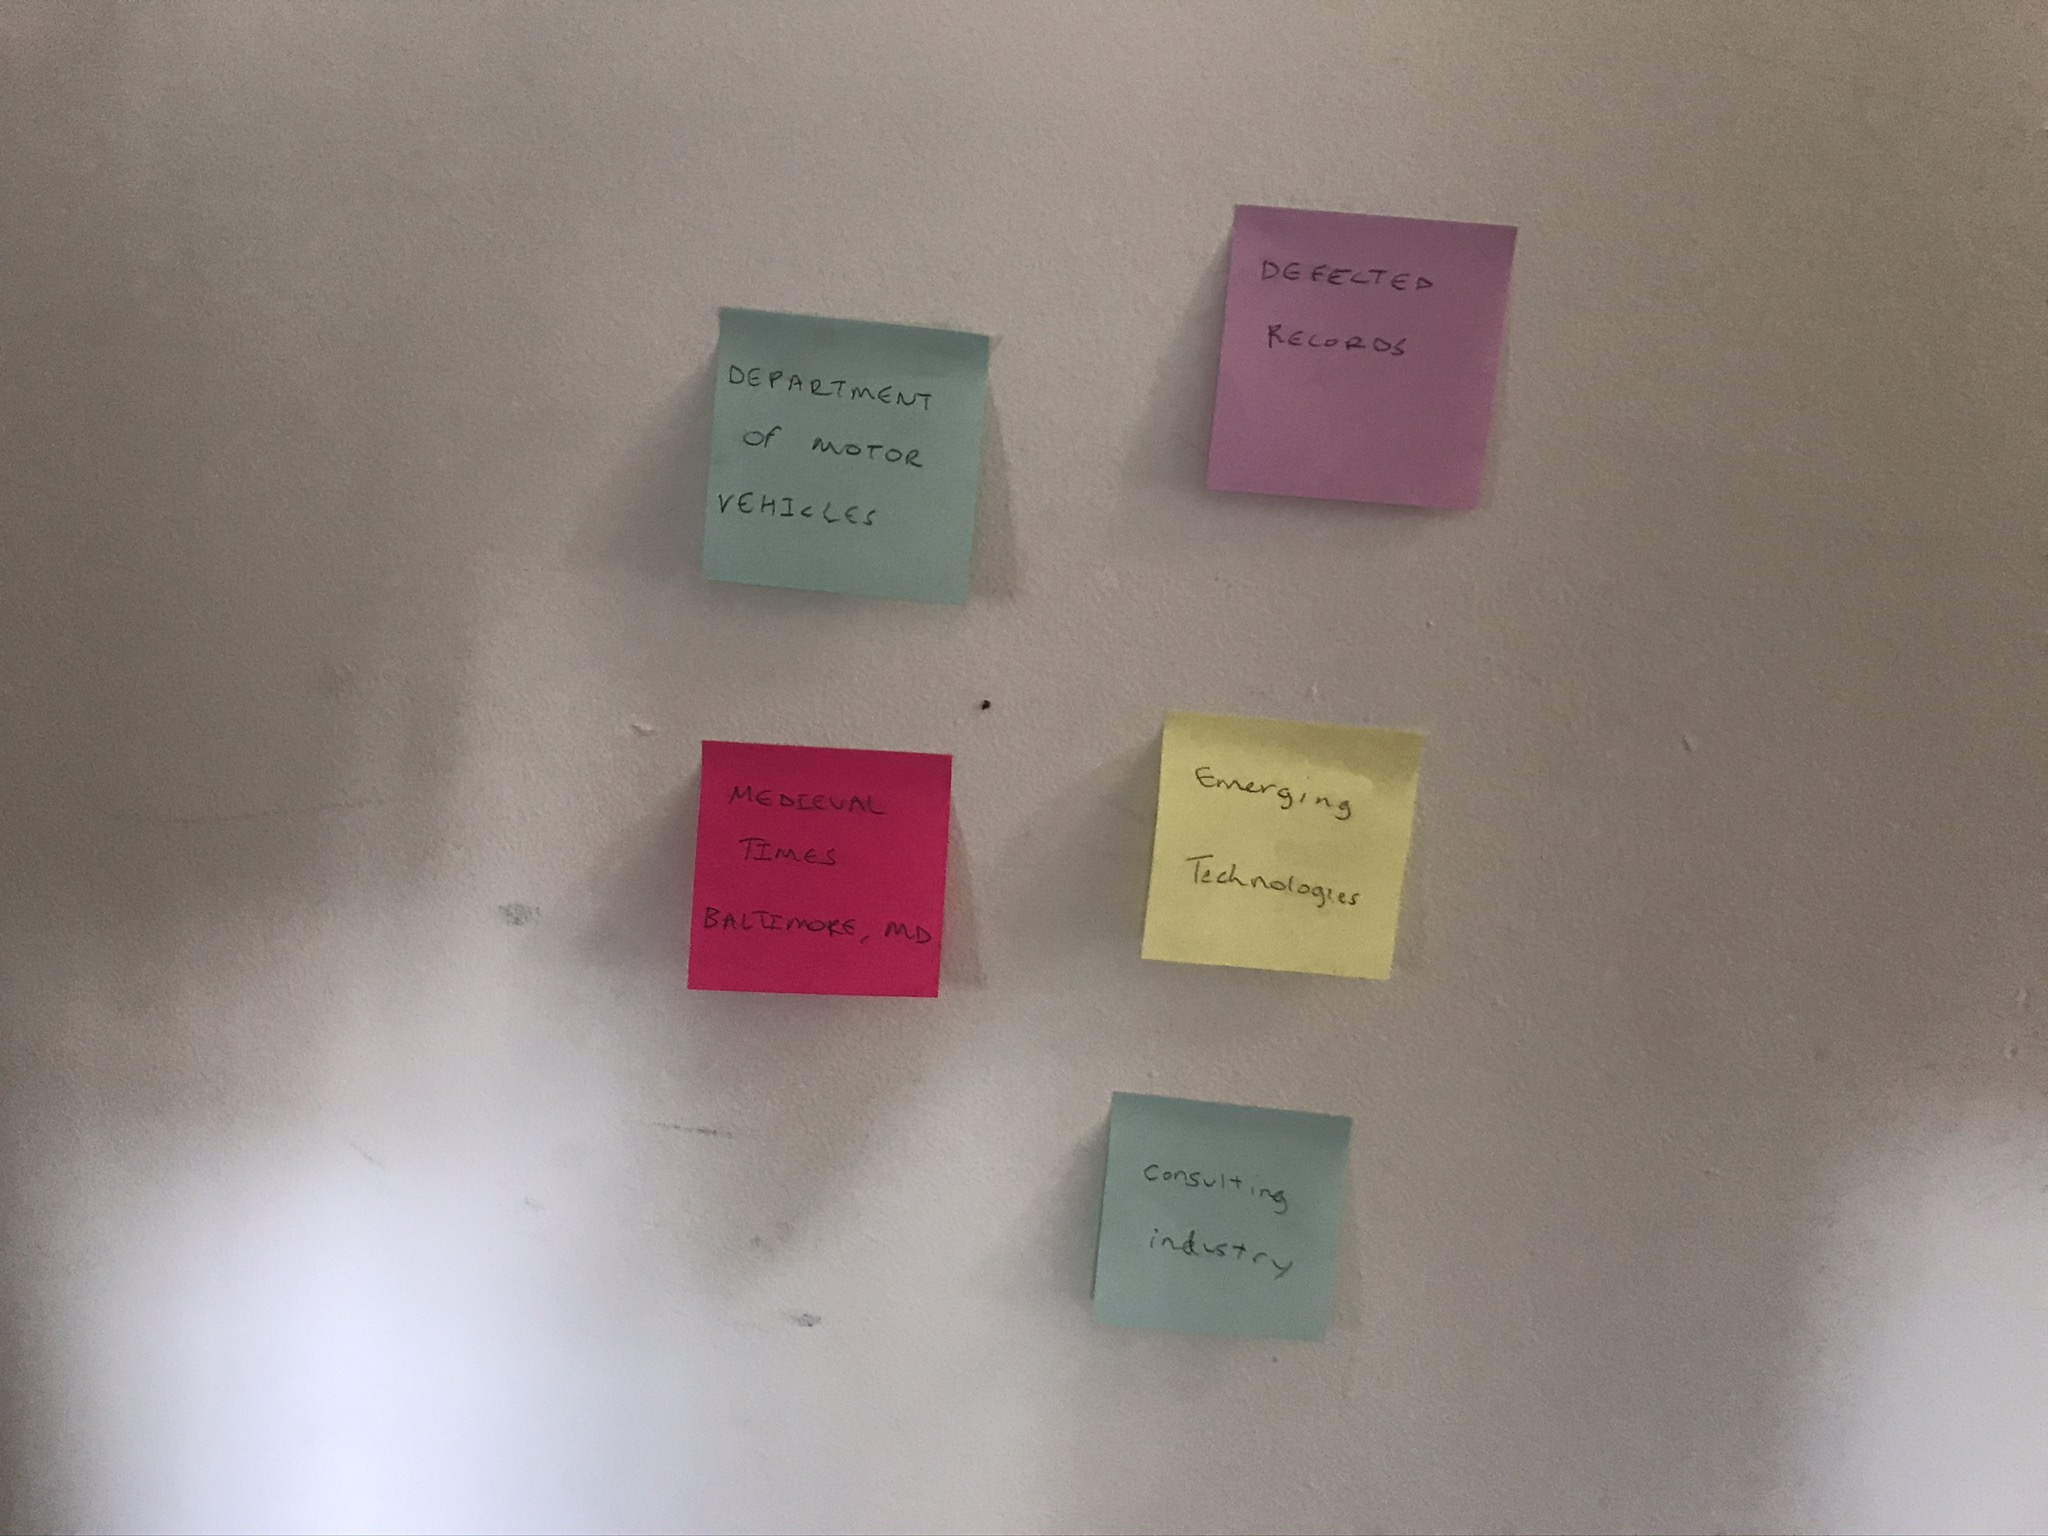sticky: (1206, 202, 1517, 515), (698, 305, 990, 605), (1140, 702, 1426, 981), (684, 741, 953, 997), (1089, 1092, 1353, 1342)
